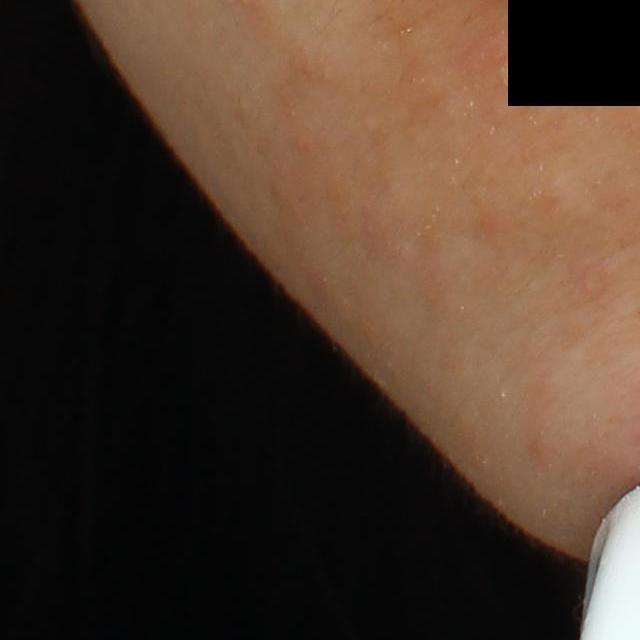hypertrophic_scar: (545, 173, 601, 226)
